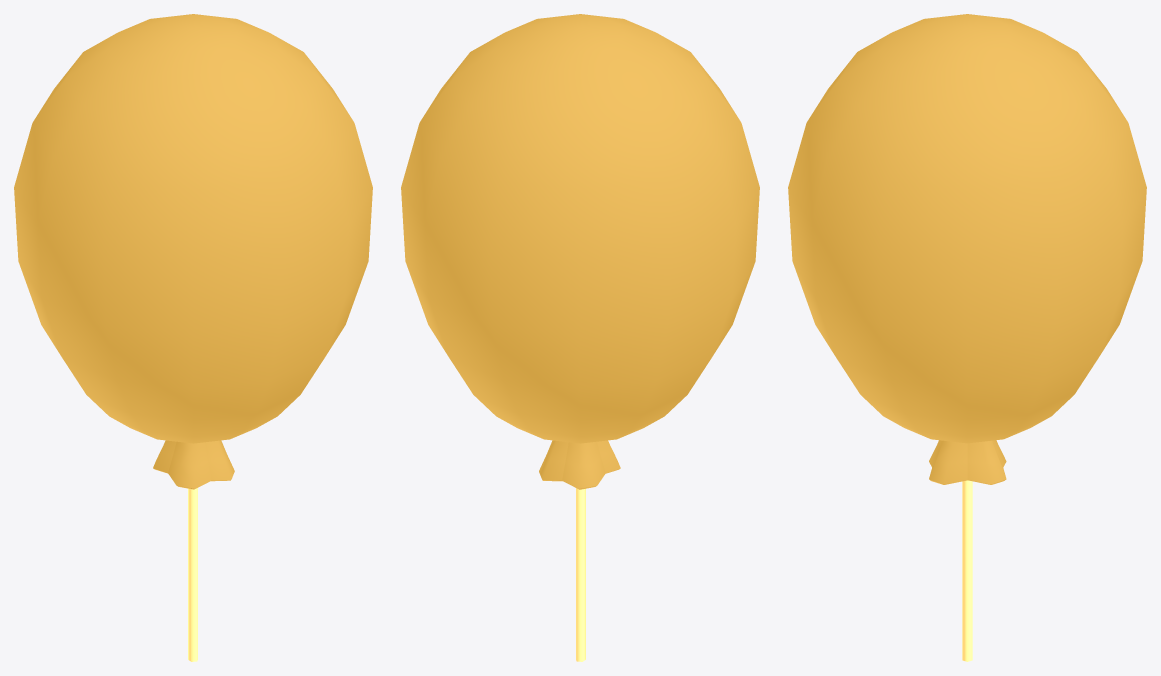
File: ball.fbx
3 views of the same model, side by side, from view 1: azimuth 30°, elevation 25°; view 2: azimuth 150°, elevation 25°; view 3: azimuth 270°, elevation 25° (orthographic).
Parts seen in each view (by area): view 1: ball; view 2: ball; view 3: ball.
Part boxes in pixels (x1,y1,x2,y2): ball: (14, 14, 372, 661); ball: (401, 14, 759, 661); ball: (788, 14, 1146, 661).
Size of the model in its own units: 66.75 by 130 by 66.75.
